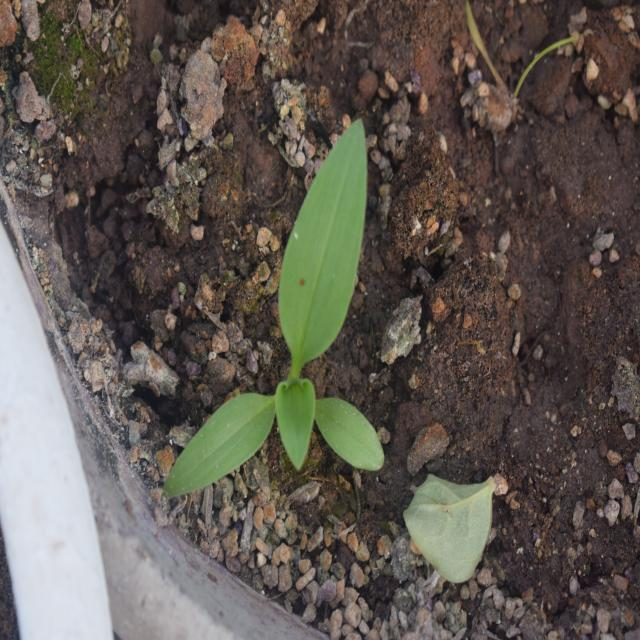Common Dayflower: (165, 116, 407, 525)
